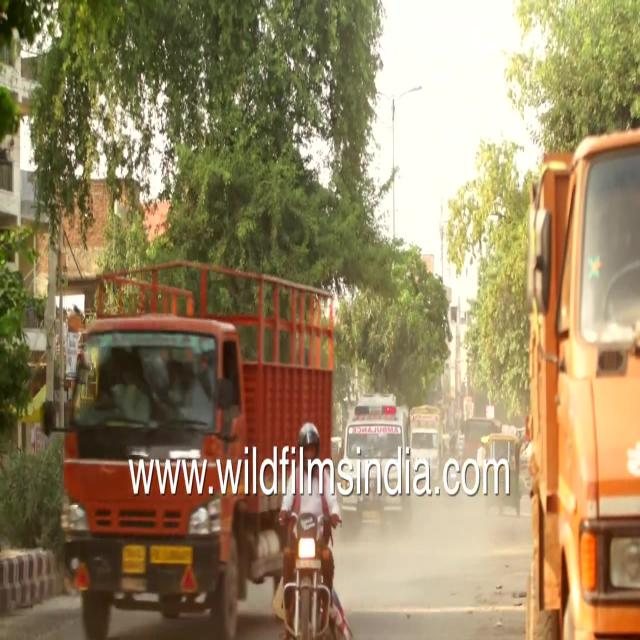ambulance: (347, 388, 411, 456)
